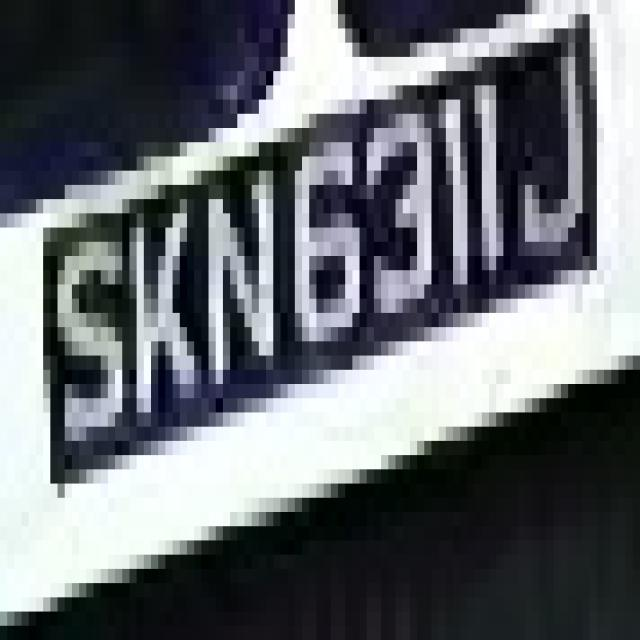1: (460, 71, 518, 327), (432, 71, 474, 370)
3: (338, 85, 439, 327)
6: (280, 114, 360, 384)
J: (511, 0, 604, 299)
K: (122, 142, 202, 470)
N: (194, 142, 281, 412)
S: (43, 185, 137, 441)
